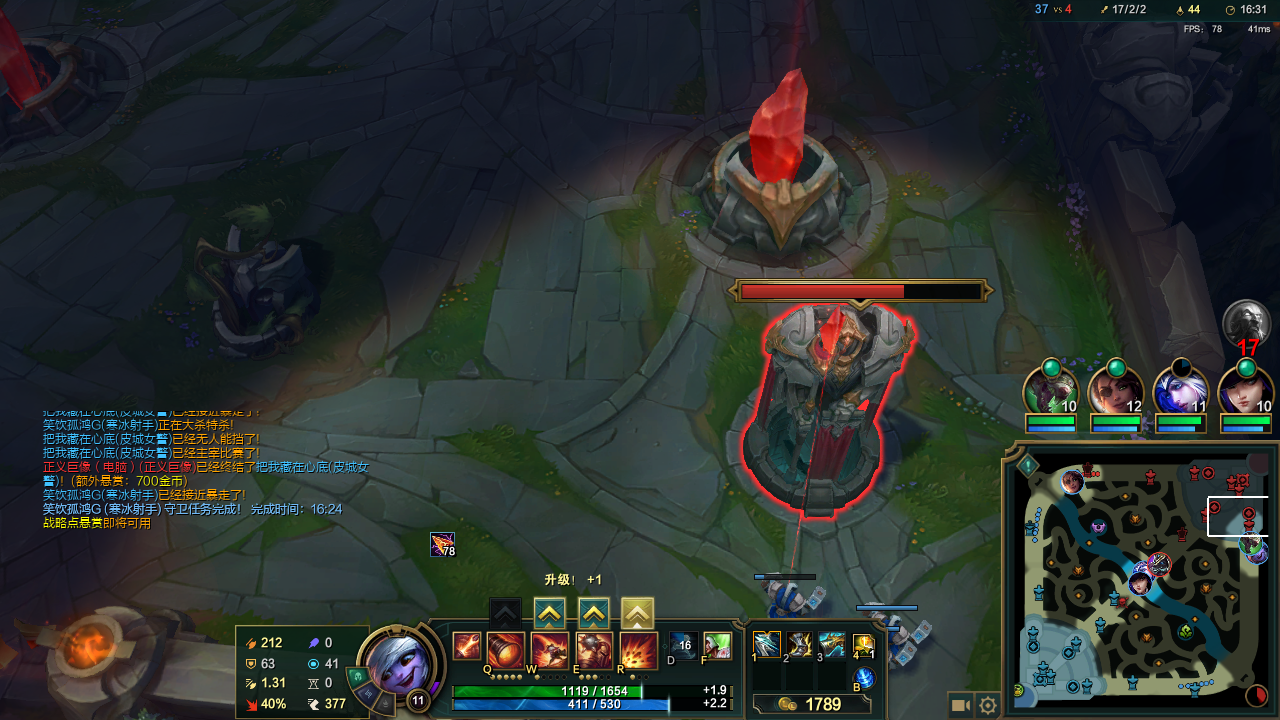DFFYT: (741, 282, 911, 532)
DFSJ: (696, 66, 865, 240)
Tuijianshengji: (622, 596, 652, 627)
WFXB: (860, 604, 938, 649), (765, 575, 828, 621)
